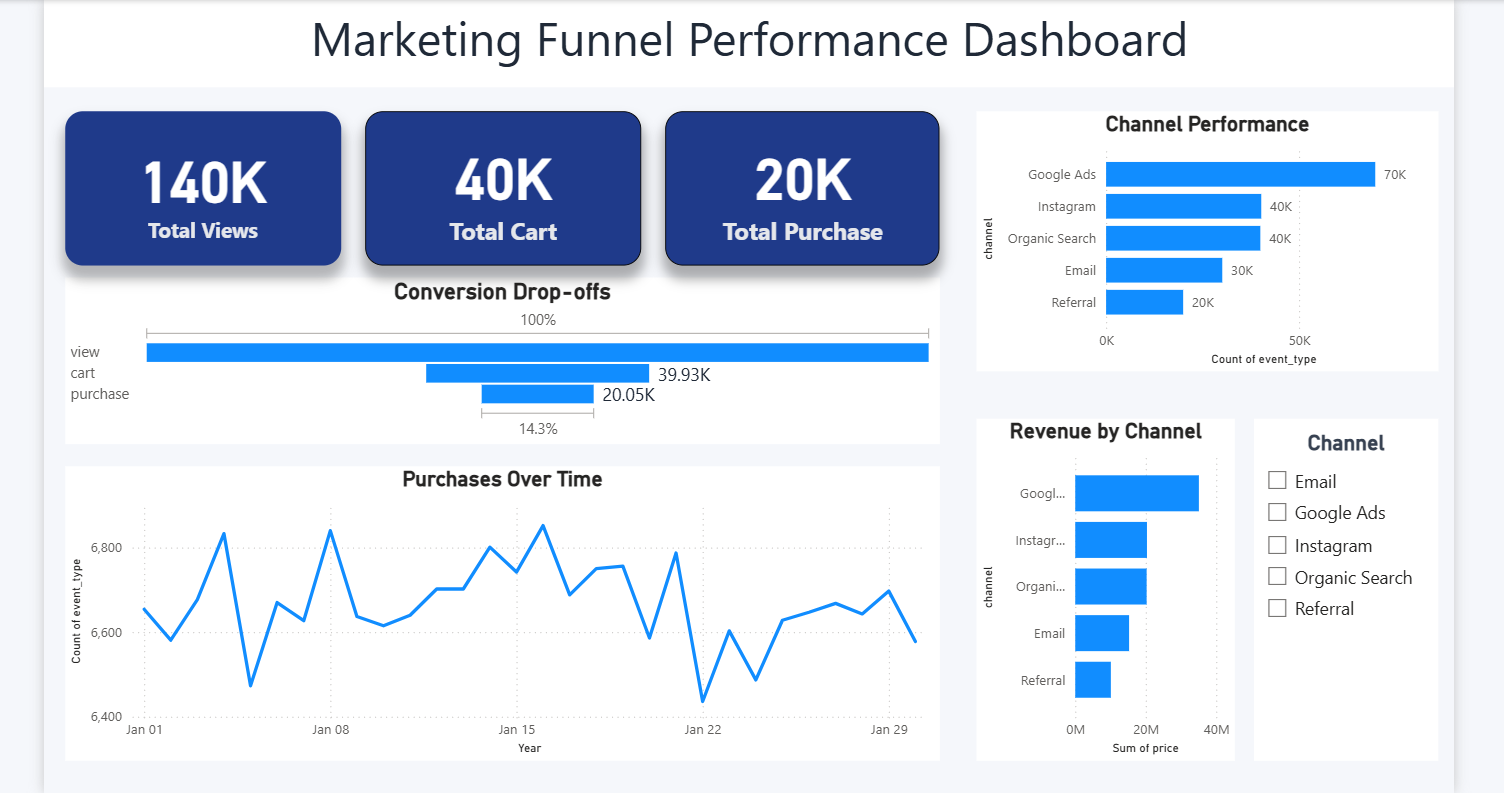

What the dashboard file says about the page in this screenshot:
{"tool":"powerbi","page":{"name":"Page 1","canvas":[1280,720],"ordinal":0},"visuals":[{"type":"funnel","title":"Conversion Drop-offs","fields":{"Category":["marketing_funnel_dataset_task3.event_type"],"Y":["CountNonNull(marketing_funnel_dataset_task3.event_type)"]},"box":[19.8,252.1,793.6,151.1],"z":0},{"type":"clusteredBarChart","title":"Channel Performance","fields":{"Category":["marketing_funnel_dataset_task3.channel"],"Y":["CountNonNull(marketing_funnel_dataset_task3.event_type)"]},"box":[845.9,101.1,419.5,235.9],"z":1000},{"type":"barChart","title":"Revenue by Channel","fields":{"Category":["marketing_funnel_dataset_task3.channel"],"Y":["Sum(marketing_funnel_dataset_task3.price)"]},"box":[845.9,380,234.7,310.2],"z":2000},{"type":"lineChart","title":"Purchases Over Time","fields":{"Y":["CountNonNull(marketing_funnel_dataset_task3.event_type)"],"Category":["marketing_funnel_dataset_task3.event_time.Variation.Date Hierarchy.Year","marketing_funnel_dataset_task3.event_time.Variation.Date Hierarchy.Quarter","marketing_funnel_dataset_task3.event_time.Variation.Date Hierarchy.Month","marketing_funnel_dataset_task3.event_time.Variation.Date Hierarchy.Day"]},"box":[19.8,423,793.6,267.2],"z":3000},{"type":"slicer","title":"Channel","fields":{"Values":["marketing_funnel_dataset_task3.channel"]},"box":[1098,380,167.3,310.2],"z":4000},{"type":"textbox","box":[0,0,1280.5,79.4],"z":5000},{"type":"card","fields":{"Values":["marketing_funnel_dataset_task3.Total Views"]},"box":[19.3,100.9,250,140],"z":6000},{"type":"card","fields":{"Values":["marketing_funnel_dataset_task3.Total Cart"]},"box":[291.5,100.9,250,140],"z":7000},{"type":"card","fields":{"Values":["marketing_funnel_dataset_task3.Total Purchase"]},"box":[563.7,100.9,249,140],"z":8000}]}

Visuals, with their boxes on the page's 1280x720 design canvas (x1, y1, x2, y2). These are canvas units, not pixel positions in the 1504x793 screenshot, which may show the page scaled, cropped or inside an application window:
"Conversion Drop-offs" funnel: 20:252:813:403
"Channel Performance" clusteredBarChart: 846:101:1265:337
"Revenue by Channel" barChart: 846:380:1081:690
"Purchases Over Time" lineChart: 20:423:813:690
"Channel" slicer: 1098:380:1265:690
textbox: 0:0:1280:79
card - marketing_funnel_dataset_task3.Total Views: 19:101:269:241
card - marketing_funnel_dataset_task3.Total Cart: 292:101:542:241
card - marketing_funnel_dataset_task3.Total Purchase: 564:101:813:241
